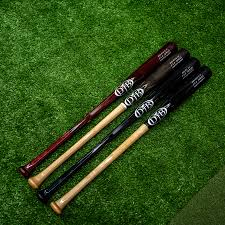baseball bat: (50, 65, 213, 215), (36, 58, 200, 204), (29, 48, 191, 189), (17, 40, 179, 179)
